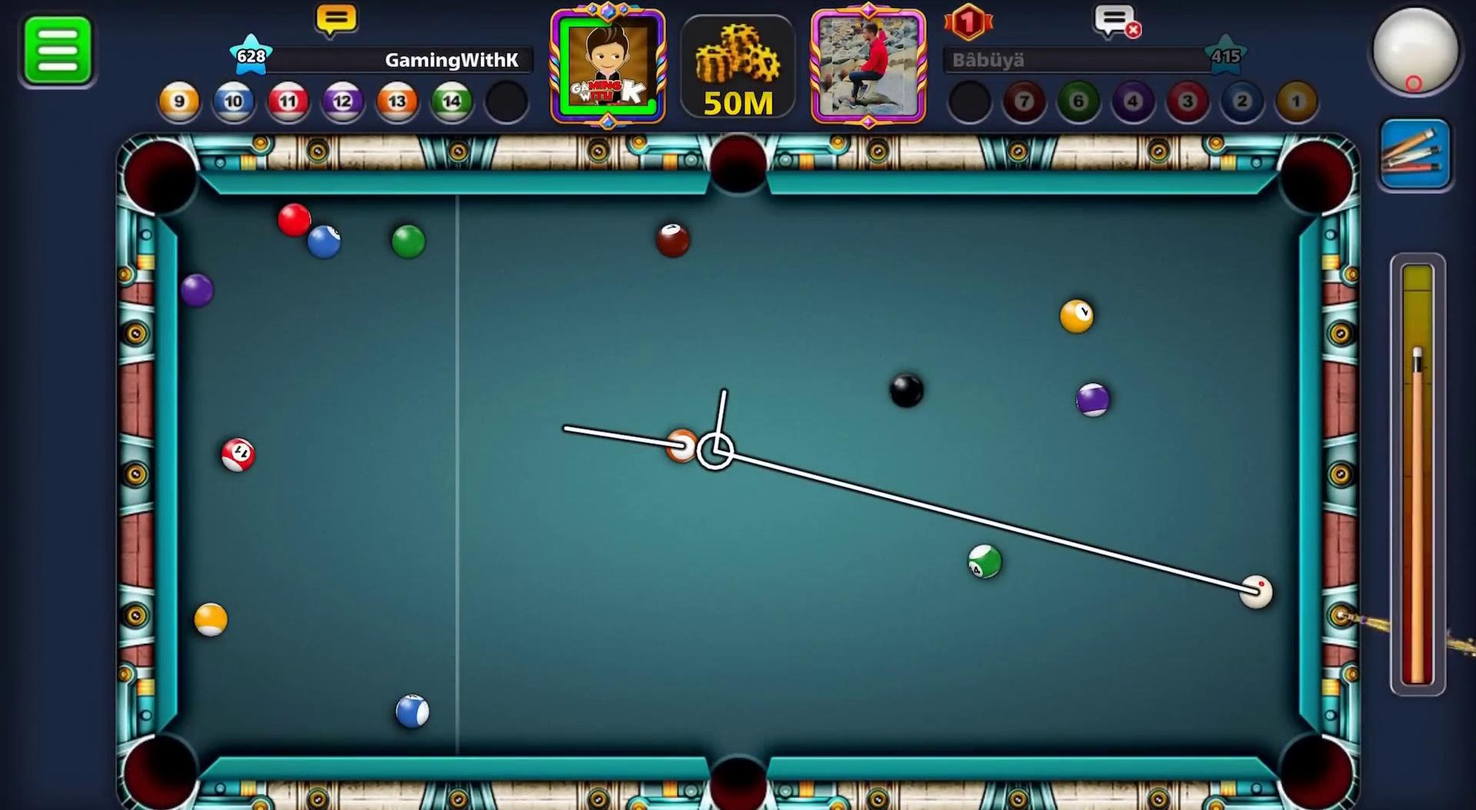Ball: (878, 366, 933, 416), (1065, 378, 1120, 428), (645, 217, 697, 261), (957, 538, 1005, 585), (298, 222, 345, 267), (1057, 292, 1101, 338), (177, 265, 217, 313), (274, 198, 314, 244), (216, 432, 257, 474), (661, 425, 704, 465), (190, 599, 229, 642), (391, 693, 431, 732), (387, 222, 425, 259)
Force: (1385, 256, 1453, 700)
Guideline: (560, 384, 1258, 605)
Hole: (111, 123, 221, 233), (102, 718, 221, 809), (1260, 711, 1362, 809), (1268, 125, 1361, 230), (693, 122, 787, 216), (691, 739, 783, 809)
Play_Area: (175, 195, 1298, 761)
Spin: (1356, 0, 1474, 118)
White: (1235, 571, 1282, 618)
